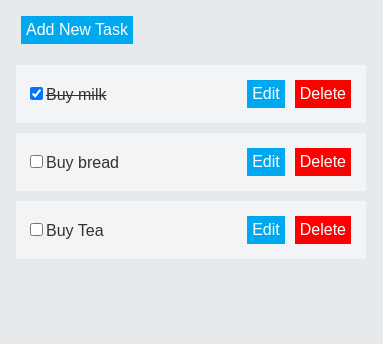
Test case: TodoApp › Insert Item - Item should be inserted on top of the list
The width and height of the screenshot is (383, 344).
Click the button with test id "add-new-task".
click(77, 30)  # box [21,16,133,44]
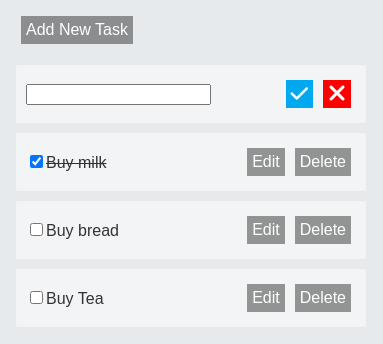
Expected: the field with test id "default-input" is shown
Expected: the button with test id "btn-enter" is shown, [286,80,313,108]
Type "New Todo" into the field with test id "default-input".
click(118, 94); type("New Todo")  # box [26,84,211,104]
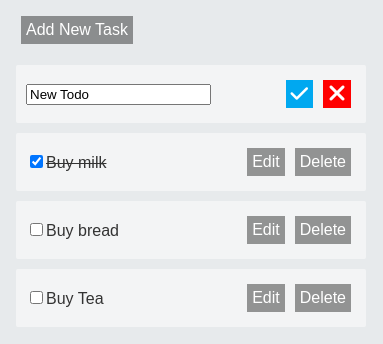
Click the button with test id "btn-enter".
click(299, 94)  # box [286,80,313,108]
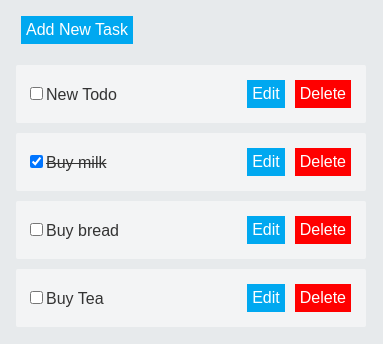
Expected: the checkbox with test id "New Todo" is shown, [30,87,43,100]
